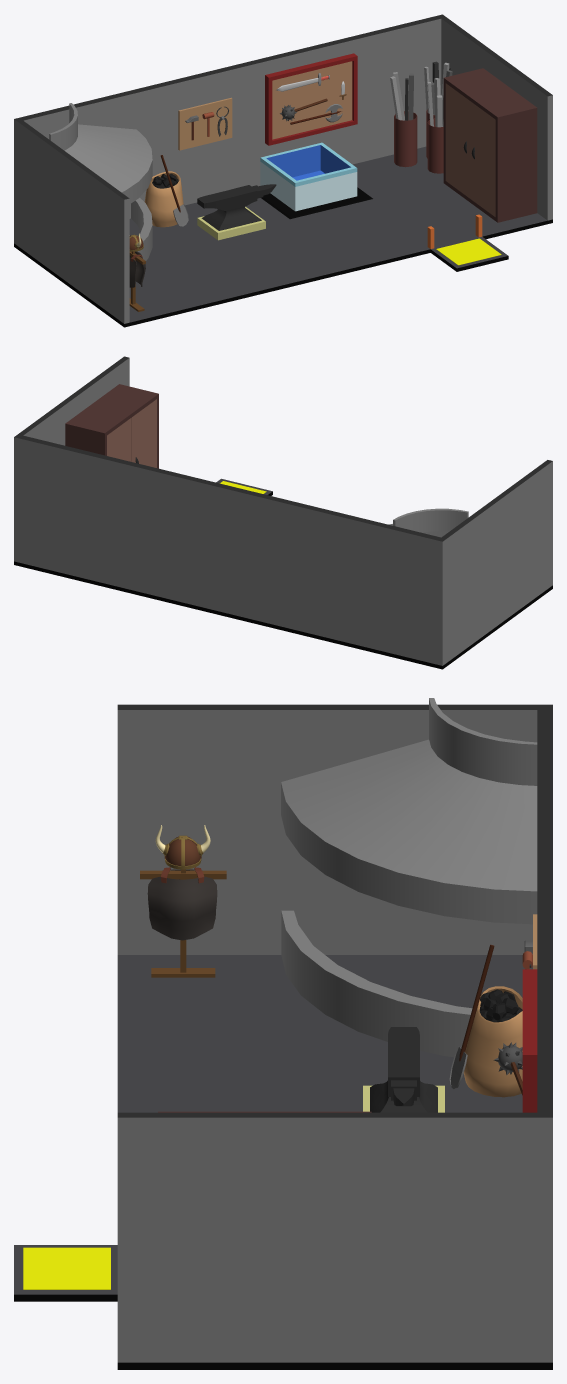
Rendered from TallerAtrezzo.fbx.
3 renders of one model, top to bottom at view 1: azimuth 30°, elevation 25°; view 2: azimuth 150°, elevation 25°; view 3: azimuth 270°, elevation 25°, orthographic. The views are drawn at different scales.
Visible parts, largest first — view 1: Paredes.004, PlataformaMovil.003, Armario, PanelArmas, TechoFragua, Cuba, Puerta1.001, Puerta2.002, Yunque, PanelHerramientas, SacoCarbon, CuboMaterial1 (+7 smaller); view 2: Paredes.004, Armario, PlataformaMovil.003, TechoFragua, Puerta2.002, Puerta1.001; view 3: Paredes.004, PlataformaMovil.003, TechoFragua, BordeFragua, Pechera, SacoCarbon, Yunque, SalidaAlmacenAtrezzo, PanelArmas, SoporteArmaduras, Pala, Casco.
Part boxes in pixels (x1,y1,x2,y2): Paredes.004: [14, 14, 552, 323]; PlataformaMovil.003: [14, 146, 552, 327]; Armario: [443, 68, 537, 222]; PanelArmas: [265, 53, 357, 145]; TechoFragua: [49, 103, 152, 203]; Cuba: [260, 142, 357, 211]; Puerta1.001: [445, 83, 470, 198]; Puerta2.002: [470, 101, 495, 216]; Yunque: [197, 184, 276, 230]; PanelHerramientas: [178, 97, 232, 150]; SacoCarbon: [144, 171, 183, 227]; CuboMaterial1: [394, 111, 417, 167]; Paredes.004: [14, 356, 552, 665]; Armario: [65, 384, 158, 468]; PlataformaMovil.003: [14, 478, 552, 669]; TechoFragua: [388, 508, 468, 537]; Puerta2.002: [131, 399, 156, 467]; Puerta1.001: [107, 418, 131, 461]; Paredes.004: [117, 704, 552, 1362]; PlataformaMovil.003: [14, 955, 552, 1369]; TechoFragua: [281, 698, 537, 924]; BordeFragua: [281, 910, 472, 1057]; Pechera: [147, 867, 217, 940]; SacoCarbon: [463, 986, 522, 1097]; Yunque: [370, 1027, 437, 1112]; SalidaAlmacenAtrezzo: [23, 1247, 110, 1289]; PanelArmas: [522, 969, 537, 1112]; SoporteArmaduras: [140, 869, 226, 977]; Pala: [449, 944, 494, 1089]; Casco: [164, 835, 201, 869].
Size of the model in its own units: 23591 by 7033 by 13016.
